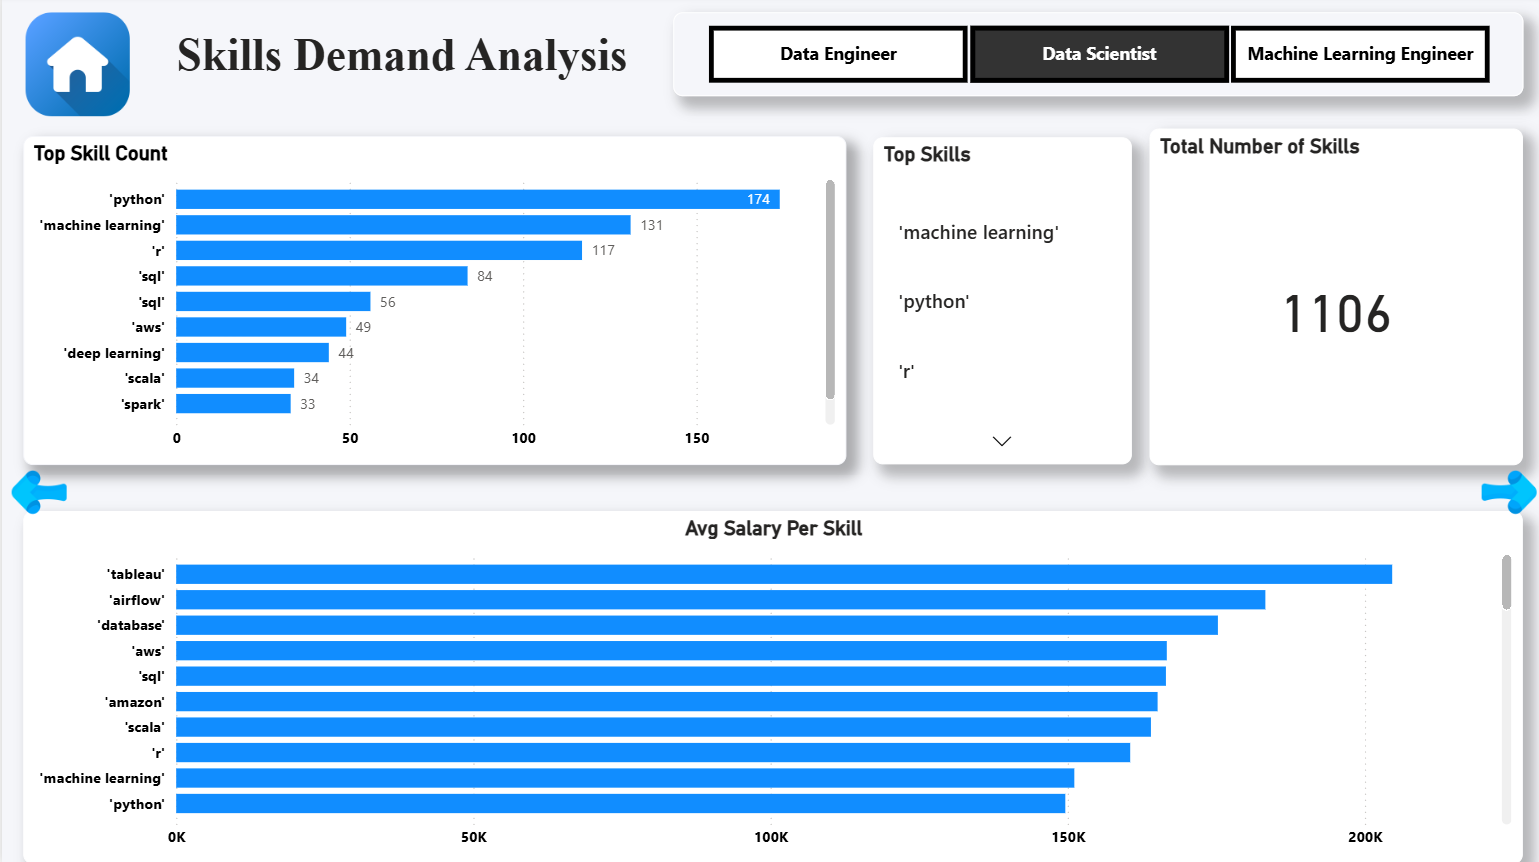

The page's visual inventory and layout, read from the dashboard file:
{"tool":"powerbi","page":{"name":"Skills Analysis","canvas":[1280,720],"ordinal":1},"visuals":[{"type":"textbox","box":[128.4,13.4,406.5,69.2],"z":0},{"type":"clusteredBarChart","title":"Top Skill Count","fields":{"Category":["data_science_job_posts_2025.Skill"],"Y":["data_science_job_posts_2025.Top Skill Count"]},"box":[17.9,116.1,682.3,272.5],"z":1000},{"type":"slicer","fields":{"Values":["data_science_job_posts_2025.Job Title"]},"box":[556.1,13.4,704.6,69.2],"z":2000},{"type":"cardVisual","title":"Top Skills","fields":{"Rows":["data_science_job_posts_2025.Skill"]},"box":[722.5,117.2,214.4,271.3],"z":3000},{"type":"card","title":"Total Number of Skills","fields":{"Values":["data_science_job_posts_2025.Top Skill Count"]},"box":[951.4,109.4,309.3,279.2],"z":4000},{"type":"barChart","title":"Avg Salary Per Skill","fields":{"Category":["data_science_job_posts_2025.Skill"],"Y":["data_science_job_posts_2025.Avg Salary per Skill"]},"box":[17.4,426.7,1243,293],"z":5000},{"type":"image","box":[0,388.6,61.4,45.8],"z":7000},{"type":"image","box":[1218.2,388.6,61.4,45.8],"z":7500},{"type":"image","box":[15.1,14,94.2,86],"z":7501}]}

Visuals, with their boxes in screenshot pixels (x1, y1, x2, y2), scaled from the page's 1280x720 canvas onto the 1539x862 screenshot:
textbox: (154, 16, 643, 99)
"Top Skill Count" clusteredBarChart: (22, 139, 842, 465)
slicer - data_science_job_posts_2025.Job Title: (669, 16, 1516, 99)
"Top Skills" cardVisual: (869, 140, 1126, 465)
"Total Number of Skills" card: (1144, 131, 1516, 465)
"Avg Salary Per Skill" barChart: (21, 511, 1515, 861)
image: (0, 465, 74, 520)
image: (1465, 465, 1538, 520)
image: (18, 17, 131, 120)
